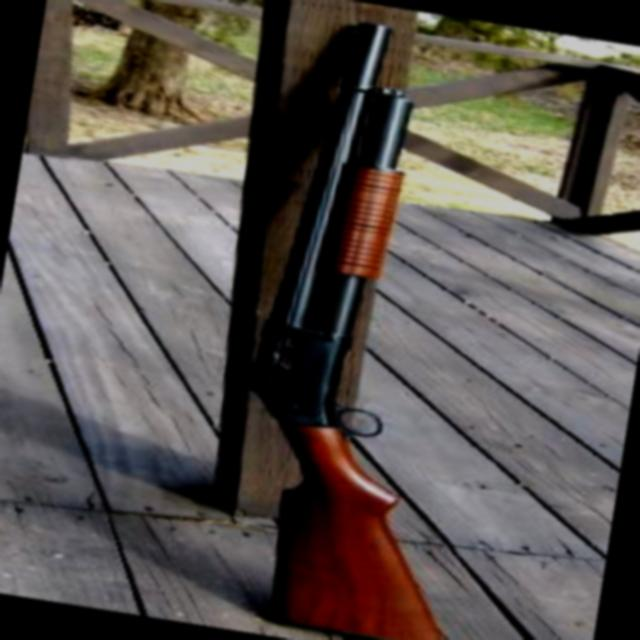shotgun: (231, 11, 561, 640)
